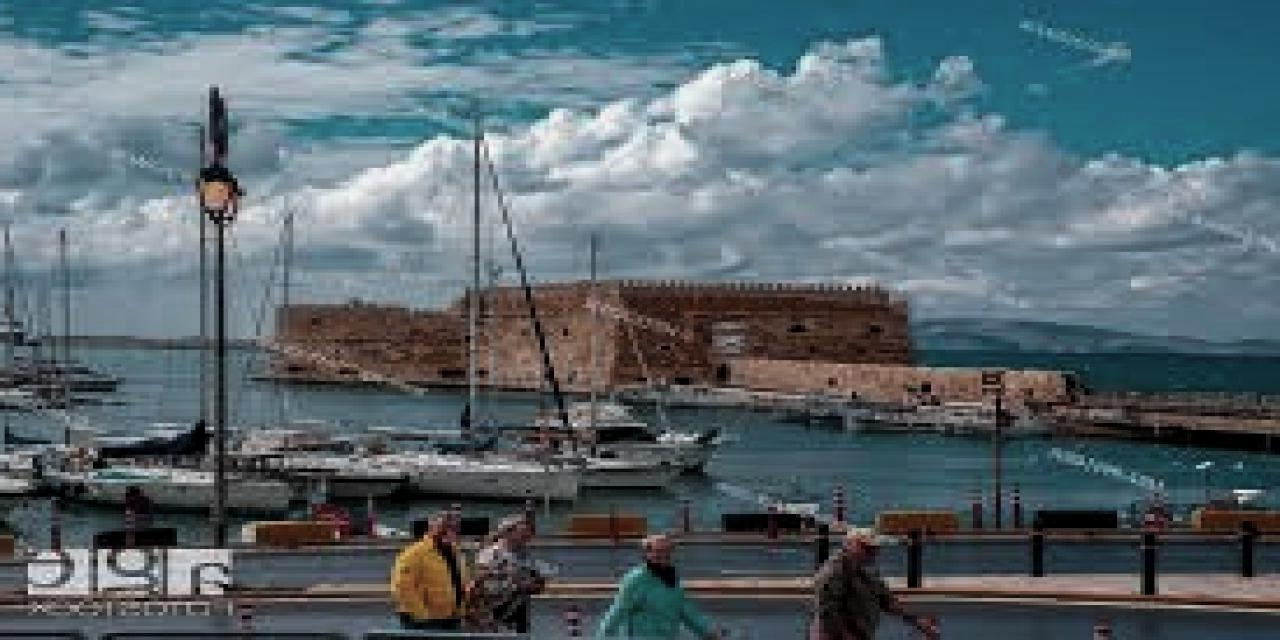Kules: (251, 279, 919, 385)
